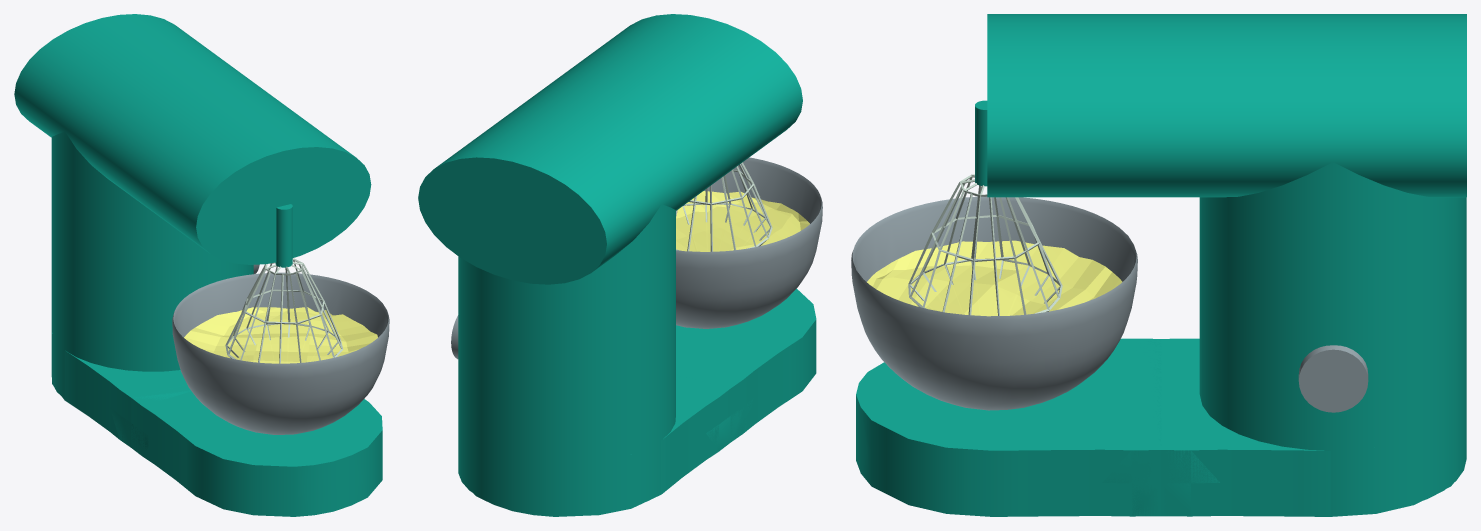
The model's file is blender.glb.
3 renders of one model, left to right at view 1: azimuth 30°, elevation 25°; view 2: azimuth 150°, elevation 25°; view 3: azimuth 270°, elevation 25°, orthographic. The views are drawn at different scales.
Visible parts, largest first — view 1: Sphere, Sphere.001, Sphere.002; view 2: Sphere, Sphere.001, Sphere.002; view 3: Sphere, Sphere.001, Sphere.002.
Part boxes in pixels (left/top/right/bottom): Sphere: left=14, top=14, right=389, bottom=516; Sphere.001: left=184, top=307, right=377, bottom=363; Sphere.002: left=225, top=258, right=343, bottom=363; Sphere: left=418, top=14, right=822, bottom=516; Sphere.001: left=676, top=191, right=809, bottom=251; Sphere.002: left=676, top=162, right=772, bottom=251; Sphere: left=851, top=14, right=1466, bottom=516; Sphere.001: left=867, top=240, right=1122, bottom=316; Sphere.002: left=908, top=174, right=1062, bottom=315.
Bounding box in the file's own units: 2.15 × 3.54 × 4.61.
Materials: 5 (5 with a texture image).
